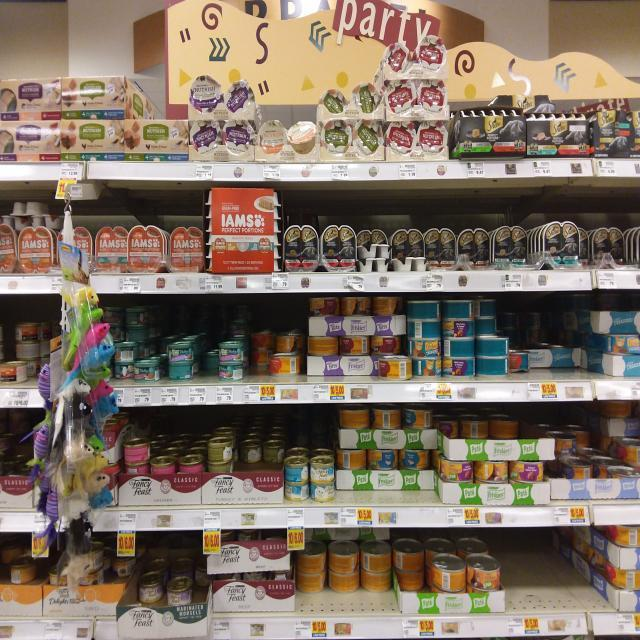empty: (507, 534, 575, 634)
